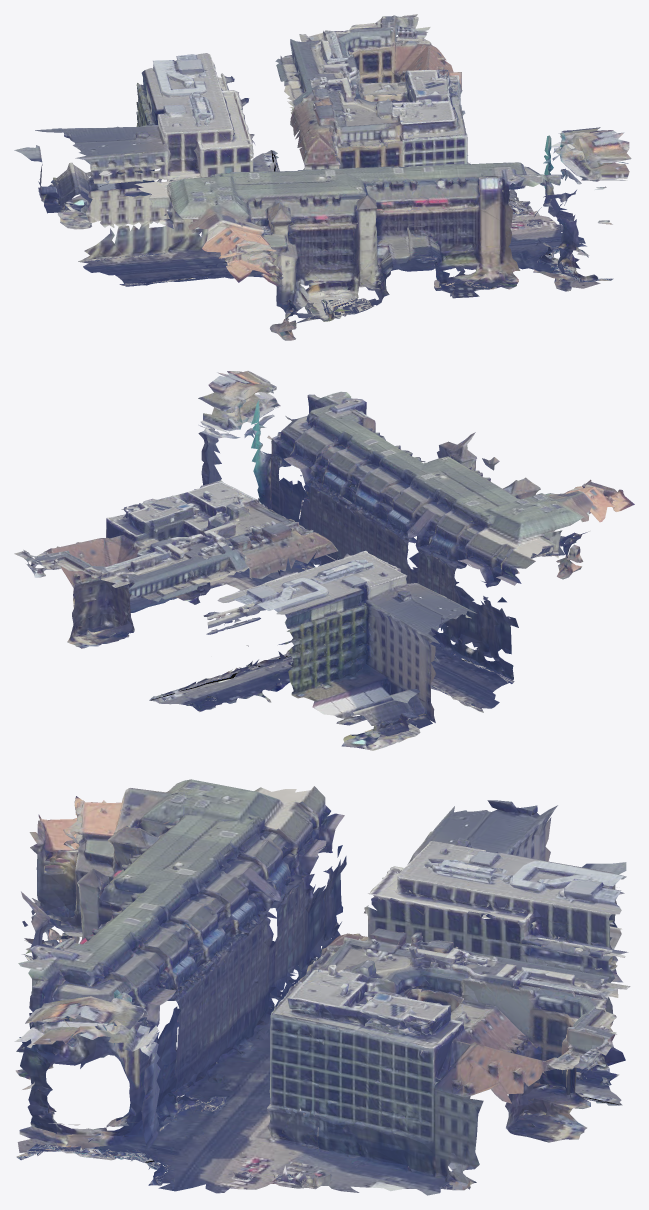
3 renders of one model, top to bottom at view 1: azimuth 30°, elevation 25°; view 2: azimuth 150°, elevation 25°; view 3: azimuth 270°, elevation 25°, orthographic. The views are drawn at different scales.
Bounding box in the file's own units: 108 × 34.39 × 108.
1 material, 1 textured.
